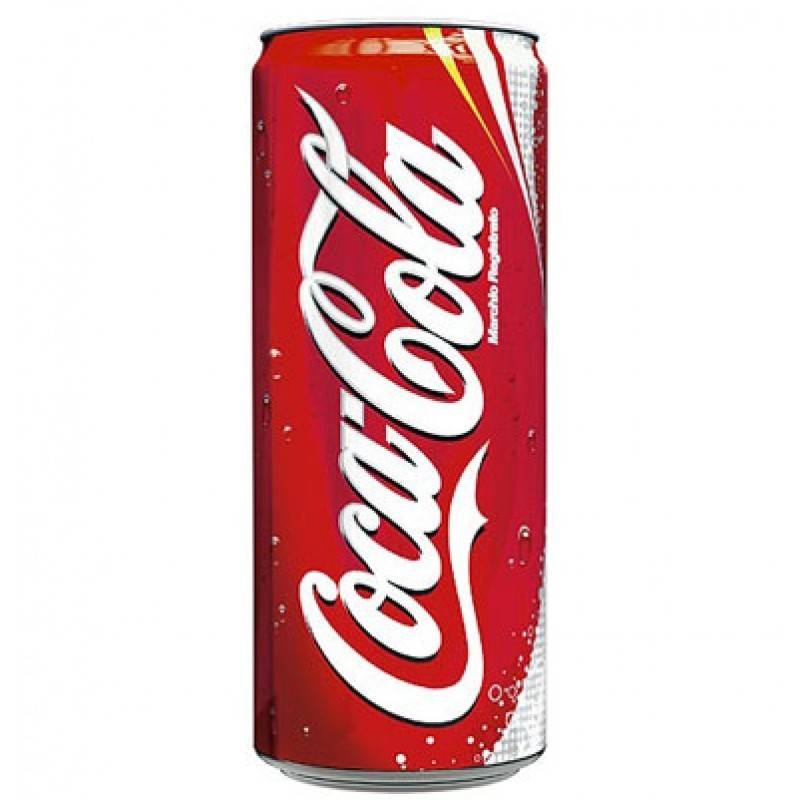can: (247, 18, 559, 795)
